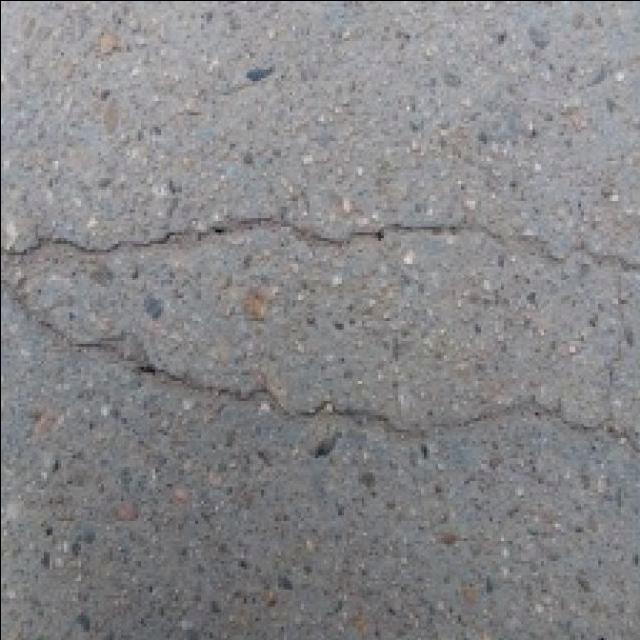SurfaceCrack: (14, 206, 640, 446)
